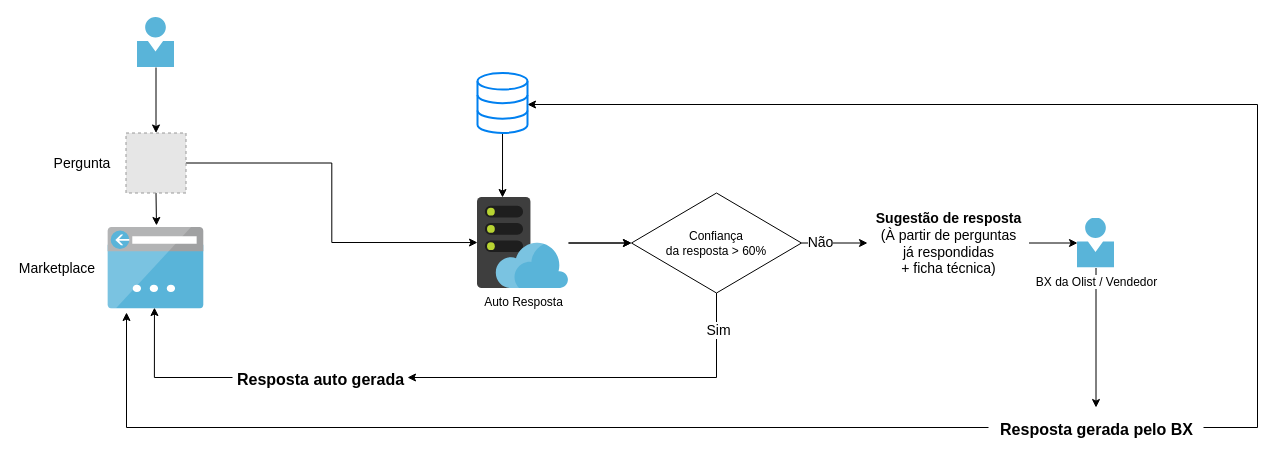
Image size: 1283x464. Some labels were removed from this diagram. Grey dashed boxes stand in for pictures. Here are the shapes that lost their labels. From the top down, the centre of each, then its label:
point (155, 42): Cliente
point (502, 103): Base de conhecimento
